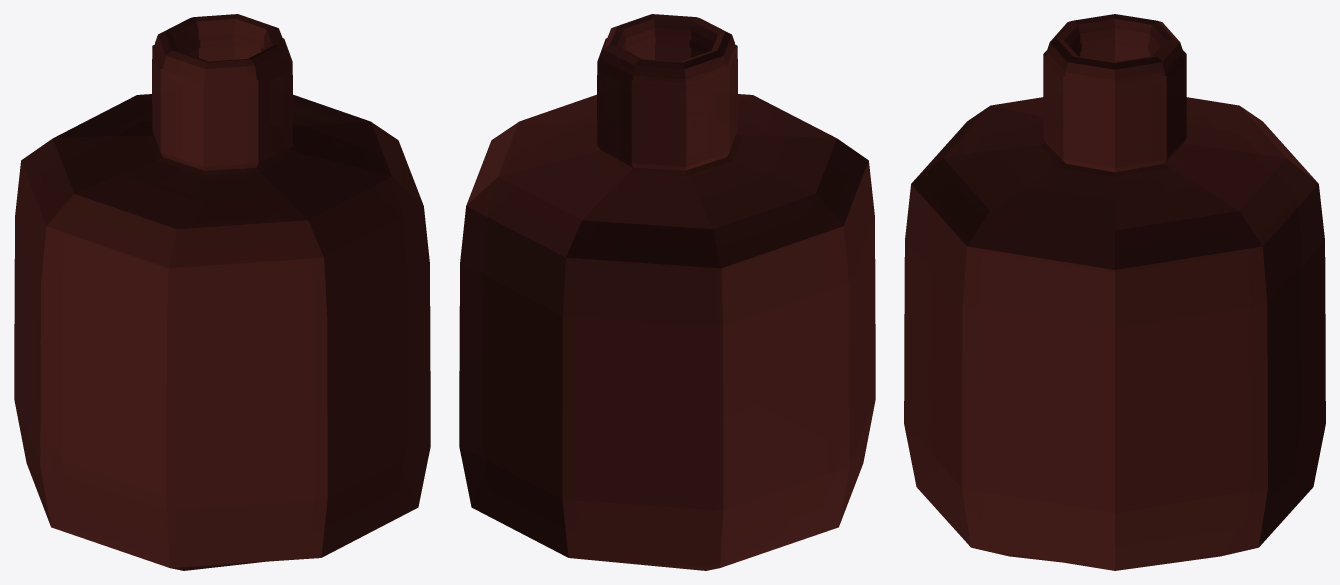
The model's file is Bottle 3.fbx.
The picture shows the model from 3 angles, left to right: view 1: azimuth 30°, elevation 25°; view 2: azimuth 150°, elevation 25°; view 3: azimuth 270°, elevation 25°; orthographic projection.
Parts seen in each view (by area): view 1: Node 0; view 2: Node 0; view 3: Node 0.
Part boxes in pixels (x1,y1,x2,y2): Node 0: (14, 14, 430, 570); Node 0: (459, 14, 875, 570); Node 0: (904, 14, 1325, 570).
Bounding box in the file's own units: 0.2517 × 0.3162 × 0.2517.
